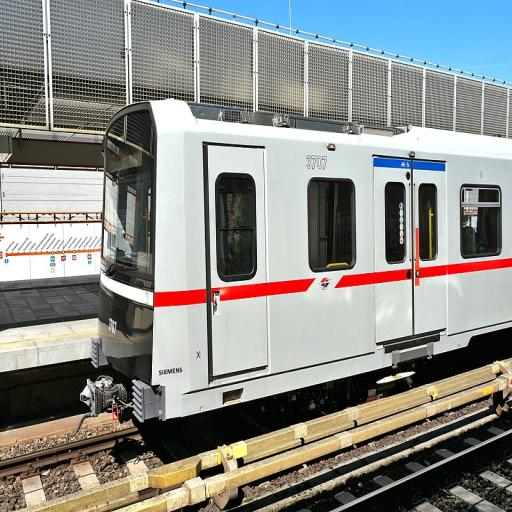X-Wagen: (80, 94, 512, 438)
